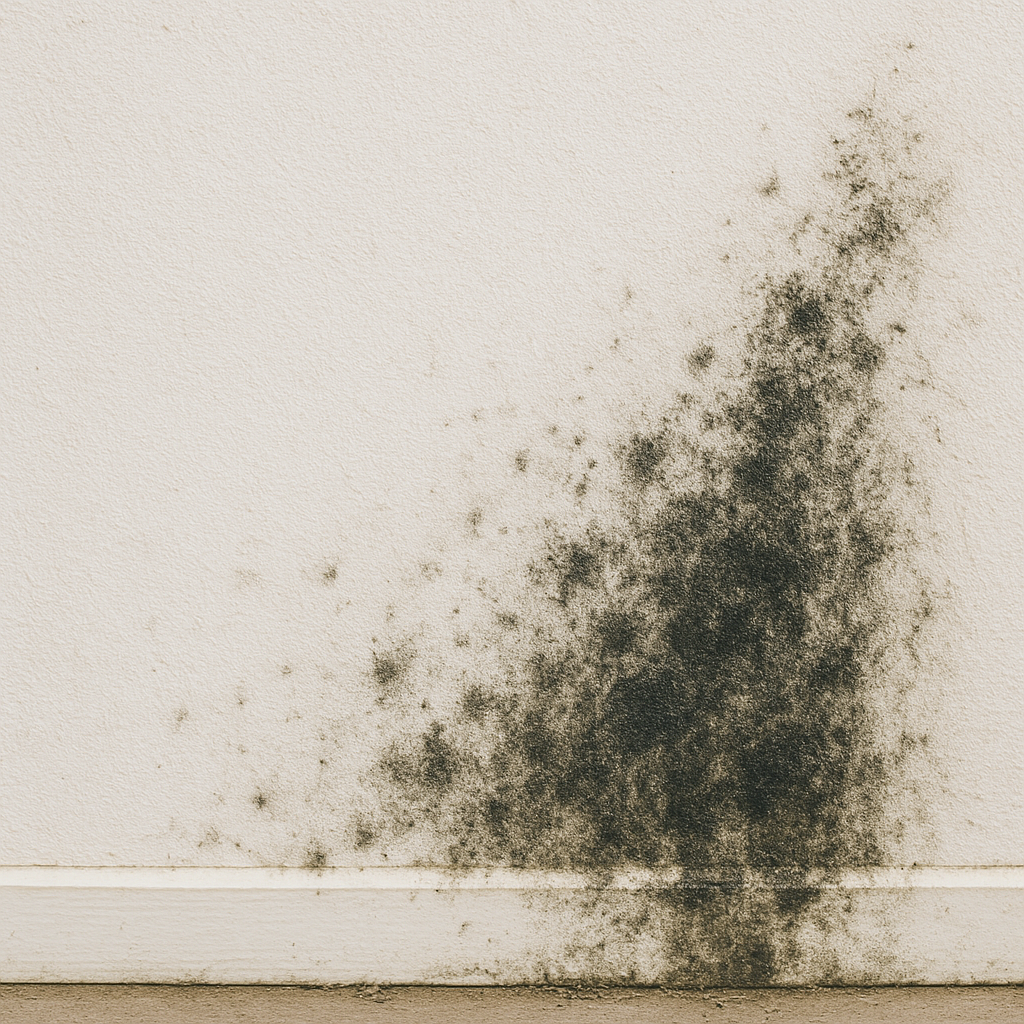schimmel: (719, 271, 864, 901), (635, 444, 712, 899), (561, 556, 634, 867), (433, 700, 549, 854), (679, 919, 784, 984)
